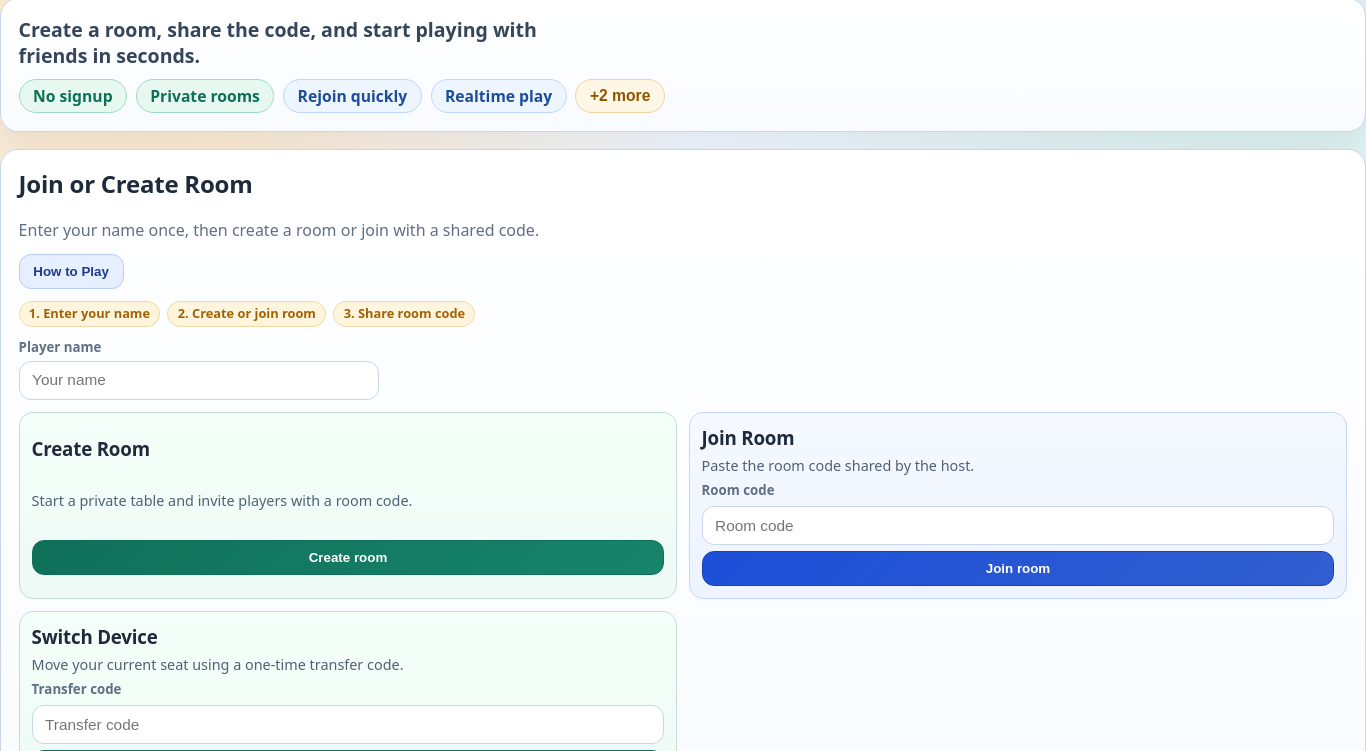
Test case: GameClient › redeems transfer code from lobby and restores seat session
Type "ROOM01" into the field named "room-code". click: (1018, 526)
box: [702,506,1334,545]
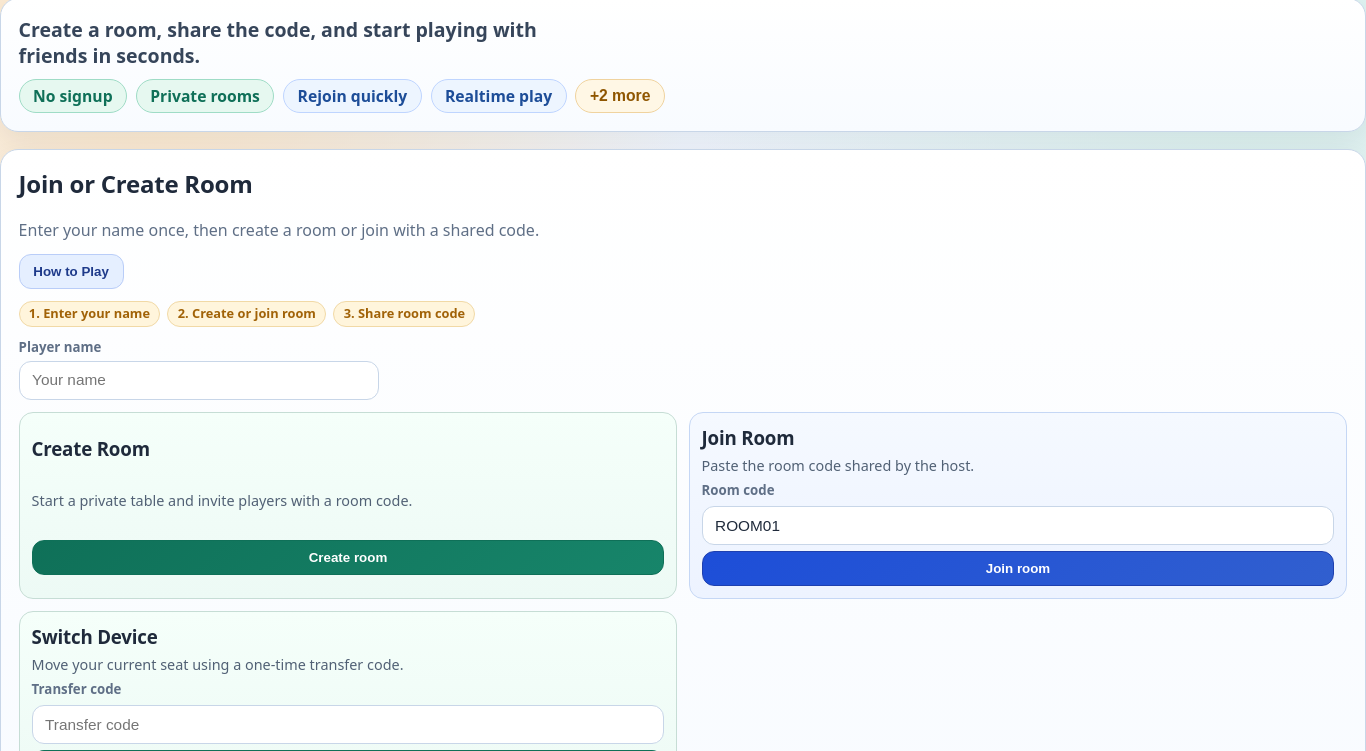
Type "AB12CD" into the field named "transfer-code". click: (348, 725)
box: [32,705,664,744]
(page scrolled)
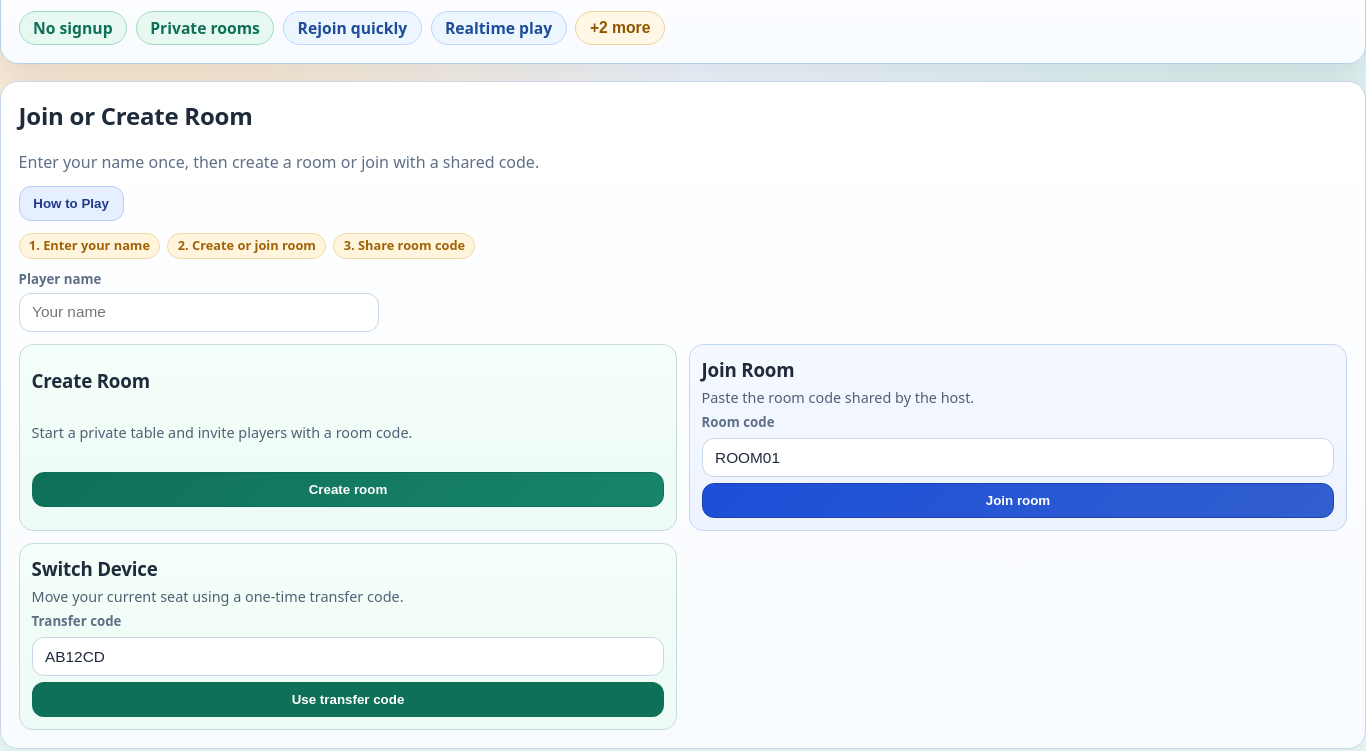
Click the button "Use transfer code". click: (348, 700)
box: [32,682,664,717]
(page scrolled)
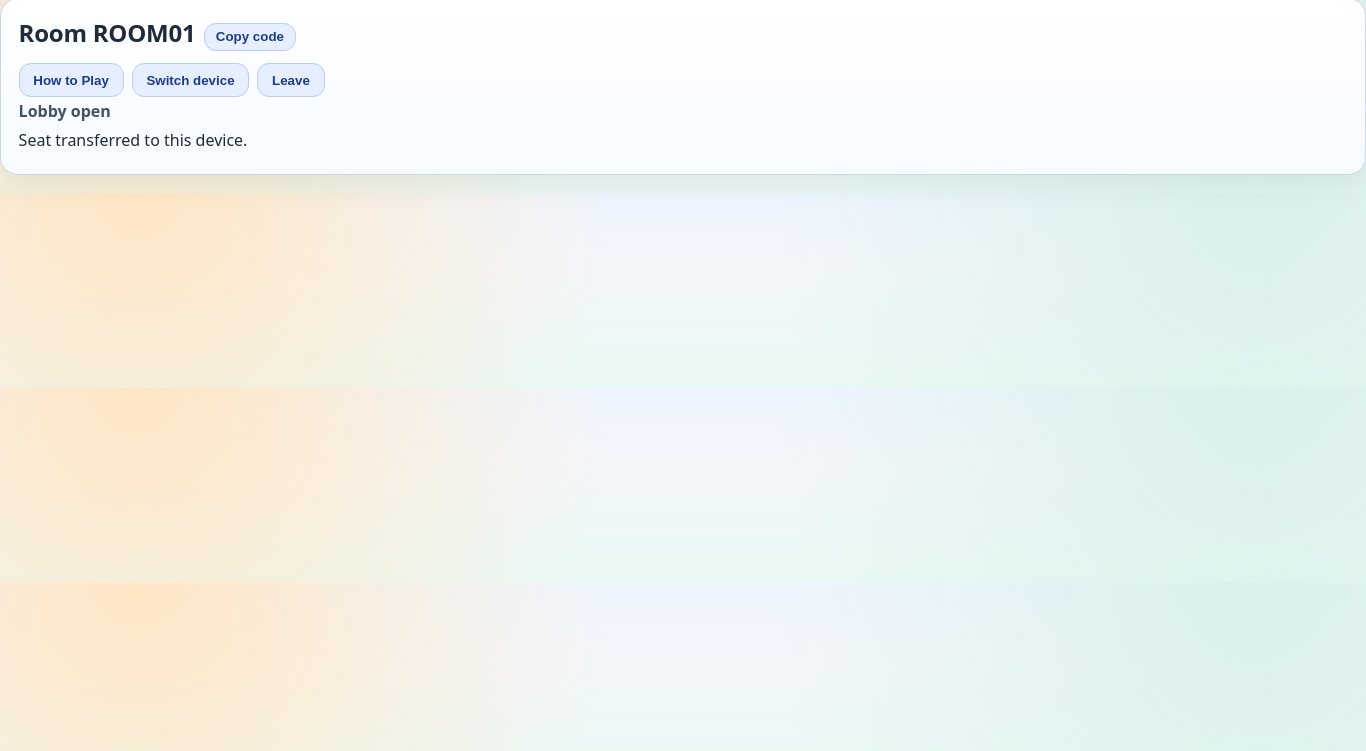
Now the heading "Room ROOM01" is shown, box [19,17,196,49]
